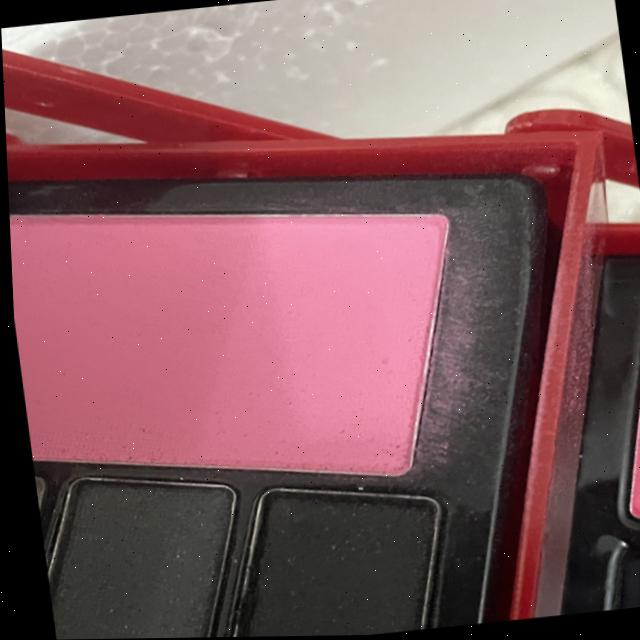blush: (5, 132, 483, 510)
